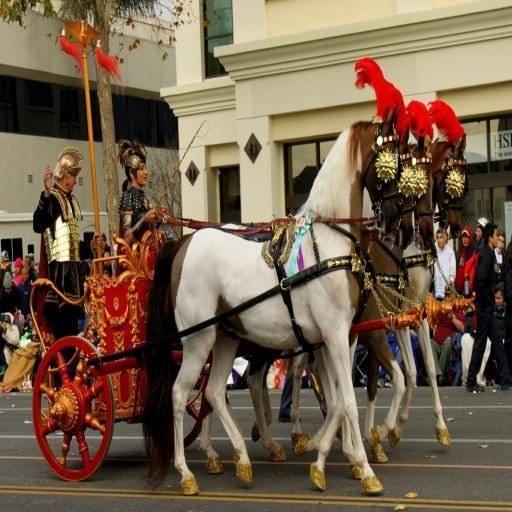horse: (136, 104, 400, 498), (164, 122, 412, 474), (250, 130, 439, 466), (272, 130, 466, 446)
